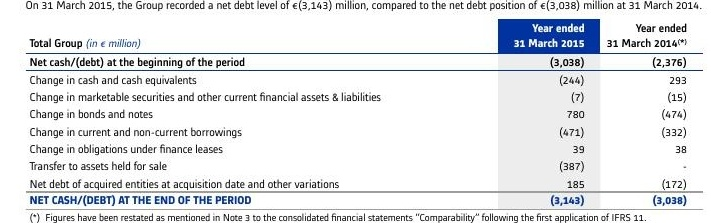table: (0, 0, 711, 223)
